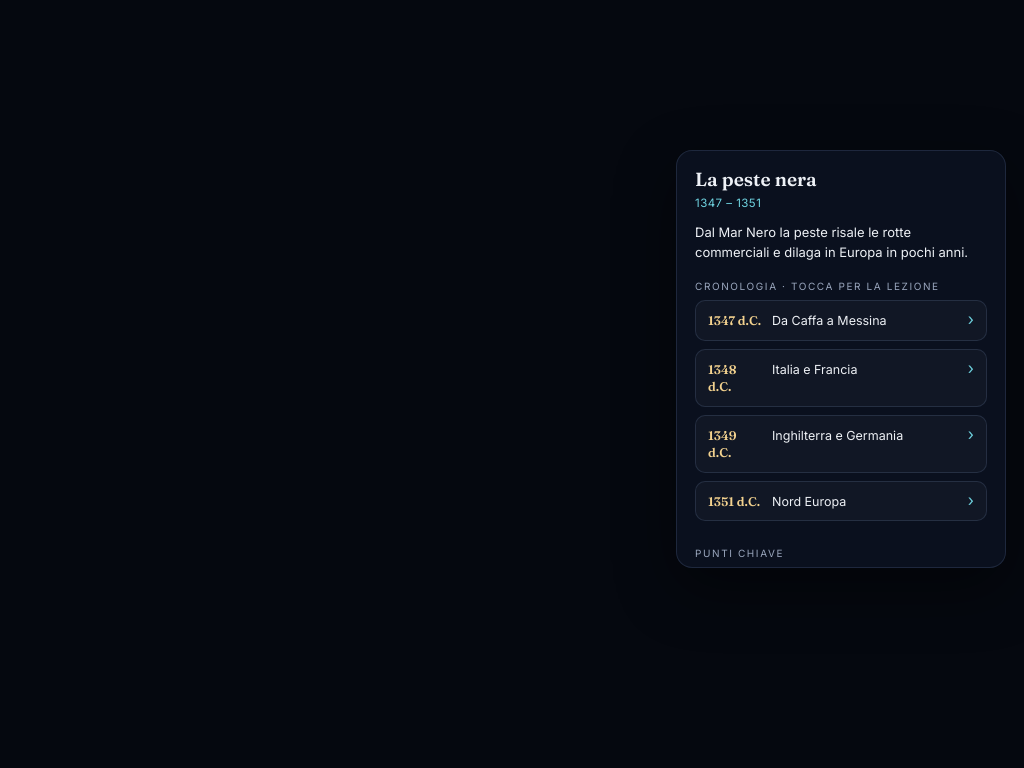
Scenario: Lesson › modale (v12 righe 553-563): con solo il contesto popolato, le altre intestazioni di sezione non vengono renderizzate
Step 1. Click the text "Da Caffa a Messina" → (829, 321), box left=772, top=313, right=887, bottom=328
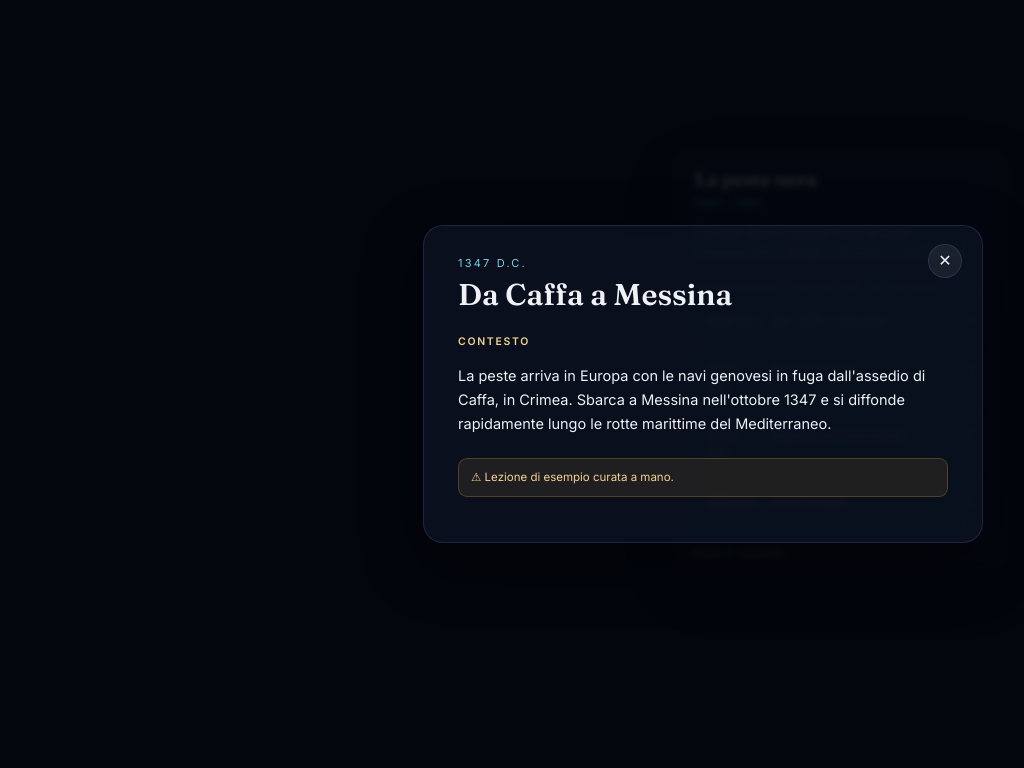
Expected: the text "⚠︎ Lezione di esempio curata a mano." is shown, left=458, top=458, right=948, bottom=497
Expected: the heading "Contesto" is shown, left=458, top=335, right=530, bottom=348
